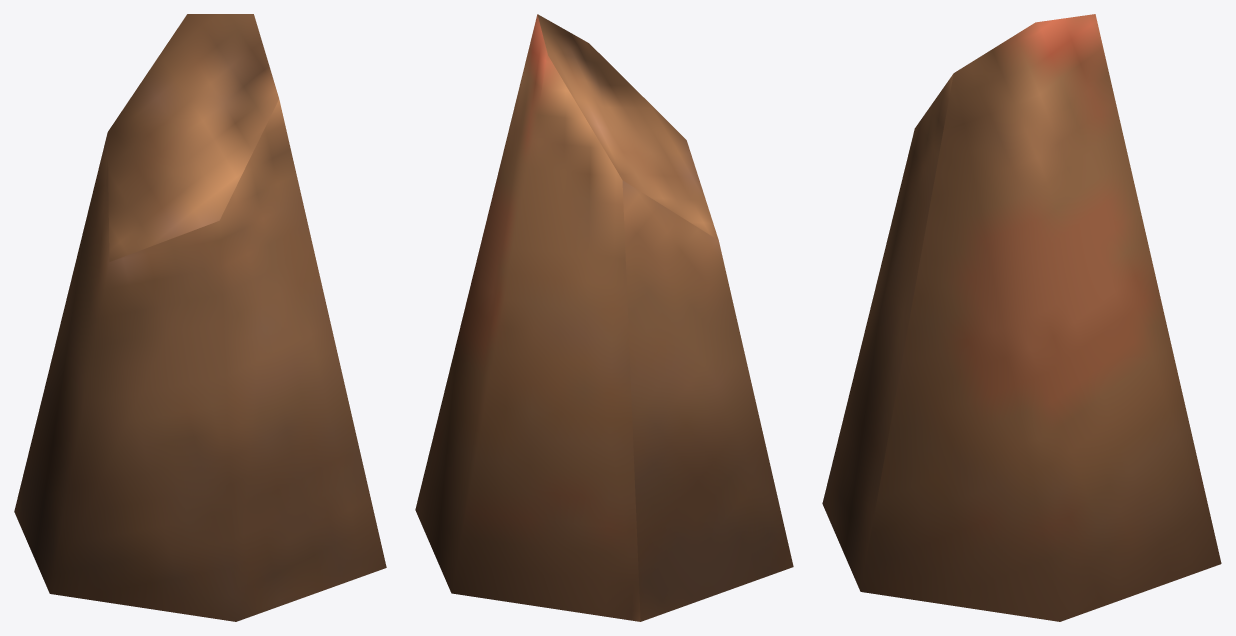
Rendered from sn_jiguan_shitai_005.FBX.
The picture shows the model from 3 angles, left to right: view 1: azimuth 30°, elevation 25°; view 2: azimuth 150°, elevation 25°; view 3: azimuth 270°, elevation 25°; orthographic projection. The views are drawn at different scales.
Parts seen in each view (by area): view 1: Sn_jiguan_shitai_005; view 2: Sn_jiguan_shitai_005; view 3: Sn_jiguan_shitai_005.
Part boxes in pixels (<box>): Sn_jiguan_shitai_005: <box>14,14,386,621</box>; Sn_jiguan_shitai_005: <box>415,14,793,621</box>; Sn_jiguan_shitai_005: <box>822,14,1221,621</box>.
Bounding box in the file's own units: 42.92 × 61.65 × 41.1.
